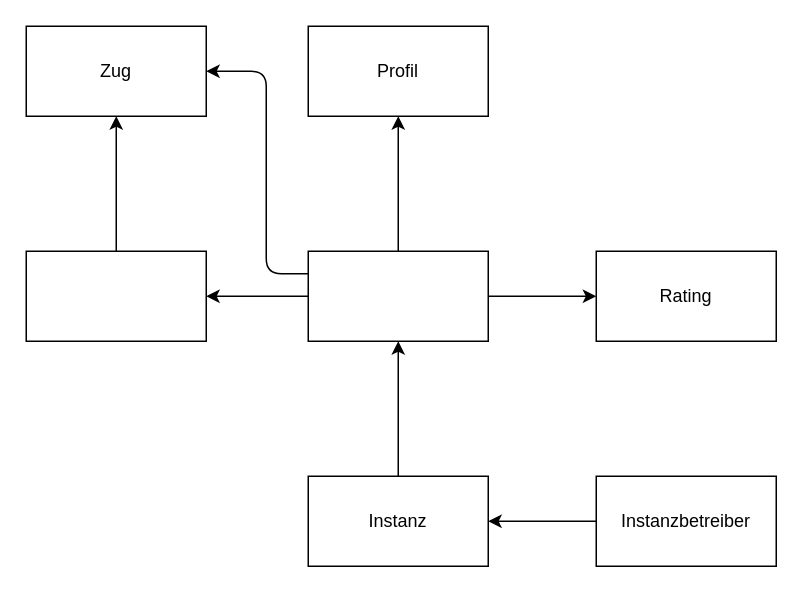
This 803x593 diagram has some shape labels left out. The shapes that lost their labels are listed below. From the top down, each one's centre as x and y in pixels, then its label:
At (x=115, y=295): "Spiel".
At (x=397, y=295): "Benutzer".
